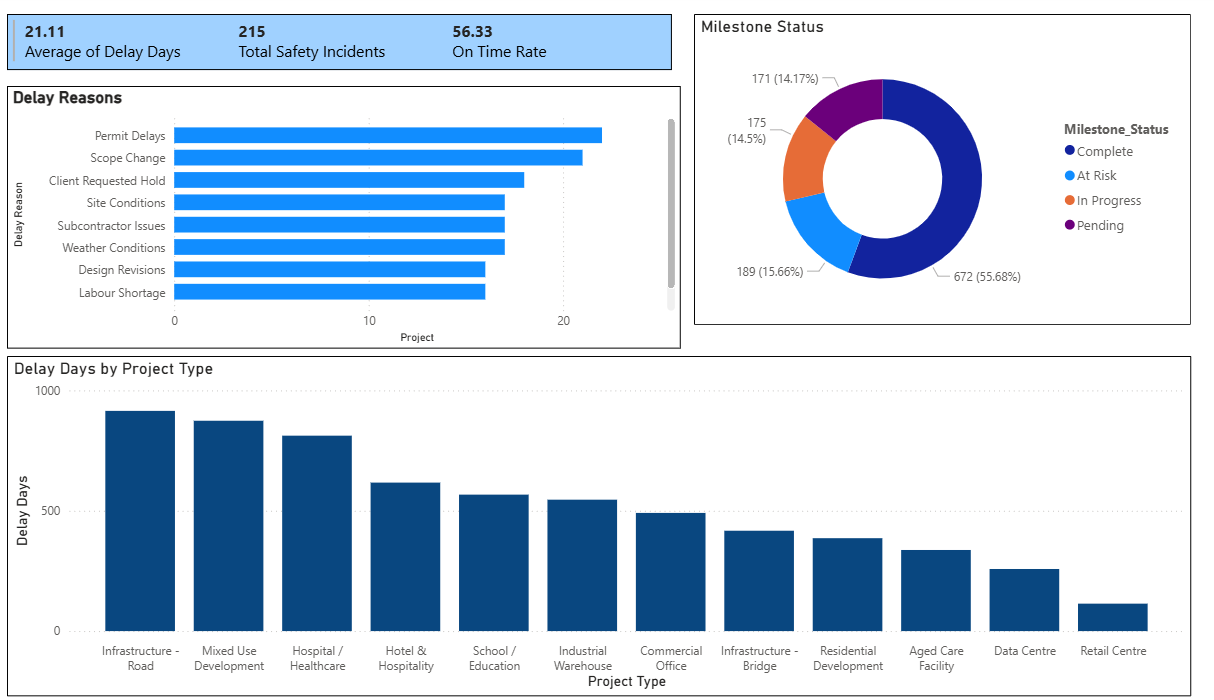

Layout of this report page (visuals, bound fields, positions):
{"tool":"powerbi","page":{"name":"Timeline & Delays","canvas":[1280,720],"ordinal":2},"visuals":[{"type":"clusteredBarChart","title":"Delay Reasons","fields":{"Category":["SiteBook_Projects.Delay_Reason"],"Y":["CountNonNull(SiteBook_Projects.Project_ID)"]},"box":[12.2,92.5,685.2,267.4],"z":0},{"type":"donutChart","title":"Milestone Status","fields":{"Category":["SiteBook_Milestones.Milestone_Status"],"Y":["CountNonNull(SiteBook_Milestones.Milestone_ID)"]},"box":[710.7,19.3,505.3,316.2],"z":1},{"type":"multiRowCard","fields":{"Values":["Avg(SiteBook_Projects.Delay_Days)","Sum(SiteBook_Projects.Safety_Incidents)","SiteBook_Projects.On Time Rate"]},"box":[12.2,19.3,676.1,56.9],"z":2},{"type":"clusteredColumnChart","fields":{"Category":["SiteBook_Projects.Project_Type"],"Y":["Sum(SiteBook_Projects.Delay_Days)"]},"box":[12.2,367,1203.7,345.7],"z":3}]}

Visuals, with their boxes in screenshot pixels (x1, y1, x2, y2), scaled from the page's 1280x720 canvas onto the 1214x700 screenshot:
"Delay Reasons" clusteredBarChart: crop(12, 90, 661, 350)
"Milestone Status" donutChart: crop(674, 19, 1153, 326)
multiRowCard - Avg(SiteBook_Projects.Delay_Days) x Sum(SiteBook_Projects.Safety_Incidents): crop(12, 19, 653, 74)
clusteredColumnChart - SiteBook_Projects.Project_Type x Sum(SiteBook_Projects.Delay_Days): crop(12, 357, 1153, 693)
